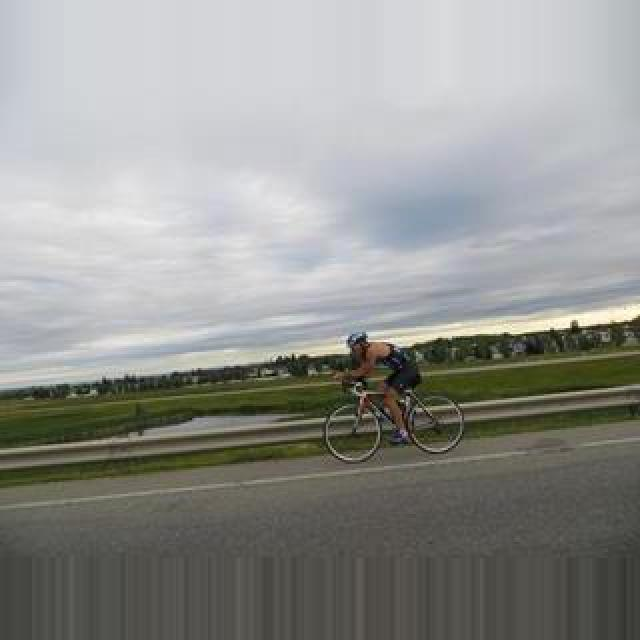MC-Bike: (346, 330, 420, 442)
Person: (326, 379, 464, 463)
